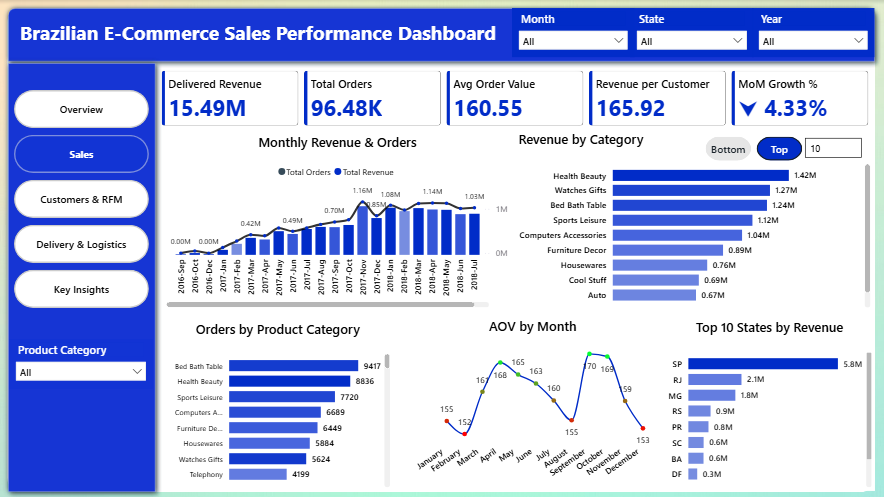

Layout of this report page (visuals, bound fields, positions):
{"tool":"powerbi","page":{"name":"Sales","canvas":[1280,720],"ordinal":1},"visuals":[{"type":"shape","box":[12.5,10.9,1255.1,700],"z":0},{"type":"shape","box":[6.2,3.1,1270.6,95.1],"z":1000},{"type":"shape","box":[6.2,82.3,230.7,637.7],"z":2000},{"type":"pageNavigator","box":[23.1,130.1,195.2,319.5],"z":3000},{"type":"slicer","fields":{"Values":["DimDate.MonthName"]},"box":[742.7,11.9,177.1,71.4],"z":4000},{"type":"slicer","fields":{"Values":["MasterTable.customer_state"]},"box":[913.9,11.9,178.6,71.4],"z":5000},{"type":"slicer","fields":{"Values":["DimDate.Year"]},"box":[1089.5,11.9,177.1,71.4],"z":6000},{"type":"lineClusteredColumnComboChart","title":"Monthly Revenue & Orders","fields":{"Category":["DimDate.YearMonth"],"Y2":["_Measure.Total Revenue"],"Y":["_Measure.Total Orders"]},"box":[238.2,192.9,504.1,257.2],"z":7000},{"type":"clusteredBarChart","title":" Revenue by Category","fields":{"Y":["_Measure.Total Revenue"],"Category":["MasterTable.product_category_name_english"]},"box":[748.1,188.5,518.7,261.6],"z":8000},{"type":"cardVisual","fields":{"Data":["_Measure.Total Revenue","_Measure.Total Orders","_Measure.Avg Order Value","_Measure.Revenue per Customer","_Measure.Reveune vs Last Month"]},"box":[230.7,96.7,1034.4,90.8],"z":9000},{"type":"lineChart","title":"AOV by Month","fields":{"Y":["_Measure.Avg Order Value"],"Category":["DimDate.MonthName"]},"box":[599.1,458.8,349.2,251.3],"z":10000},{"type":"clusteredBarChart","title":"Top 10 States by Revenue","fields":{"Y":["_Measure.Total Revenue"],"Category":["MasterTable.customer_state"]},"box":[962.9,460.3,305.4,249.9],"z":11000},{"type":"clusteredBarChart","title":"Orders by Product Category","fields":{"Category":["MasterTable.product_category_name_english"],"Y":["_Measure.All Orders"]},"box":[236.7,463.2,334.6,246.9],"z":12000},{"type":"advancedSlicerVisual","fields":{"Values":["Top/Bottom.Value"]},"box":[1018.4,192.9,152,45.3],"z":13000},{"type":"slicer","fields":{"Values":["Parameter.Parameter"]},"box":[1154.3,190,103.7,74.5],"z":14000},{"type":"slicer","fields":{"Values":["MasterTable.product_category_name_english"]},"box":[15.9,490.1,208.2,72.3],"z":15000}]}

Visuals, with their boxes in screenshot pixels (x1, y1, x2, y2), scaled from the page's 1280x720 canvas onto the 884x497 screenshot:
shape: box=[9, 8, 875, 491]
shape: box=[4, 2, 882, 68]
shape: box=[4, 57, 164, 496]
pageNavigator: box=[16, 90, 151, 310]
slicer - DimDate.MonthName: box=[513, 8, 635, 58]
slicer - MasterTable.customer_state: box=[631, 8, 755, 58]
slicer - DimDate.Year: box=[752, 8, 875, 58]
"Monthly Revenue & Orders" lineClusteredColumnComboChart: box=[165, 133, 513, 311]
" Revenue by Category" clusteredBarChart: box=[517, 130, 875, 311]
cardVisual - _Measure.Total Revenue x _Measure.Total Orders: box=[159, 67, 874, 129]
"AOV by Month" lineChart: box=[414, 317, 655, 490]
"Top 10 States by Revenue" clusteredBarChart: box=[665, 318, 876, 490]
"Orders by Product Category" clusteredBarChart: box=[163, 320, 395, 490]
advancedSlicerVisual - Top/Bottom.Value: box=[703, 133, 808, 164]
slicer - Parameter.Parameter: box=[797, 131, 869, 183]
slicer - MasterTable.product_category_name_english: box=[11, 338, 155, 388]
